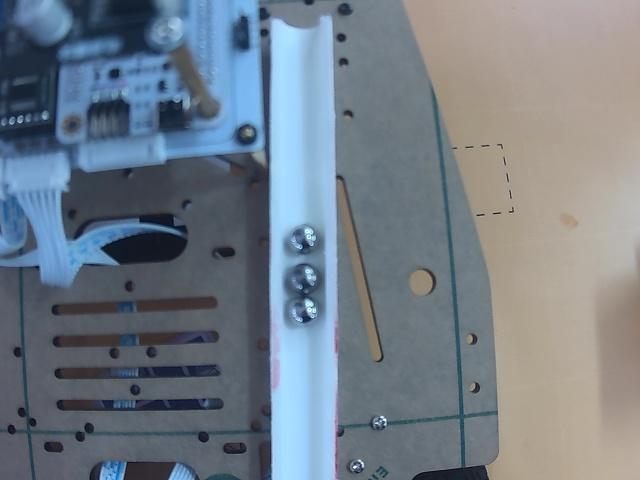steelball: (287, 295, 317, 326), (288, 263, 317, 293), (288, 224, 316, 252)
